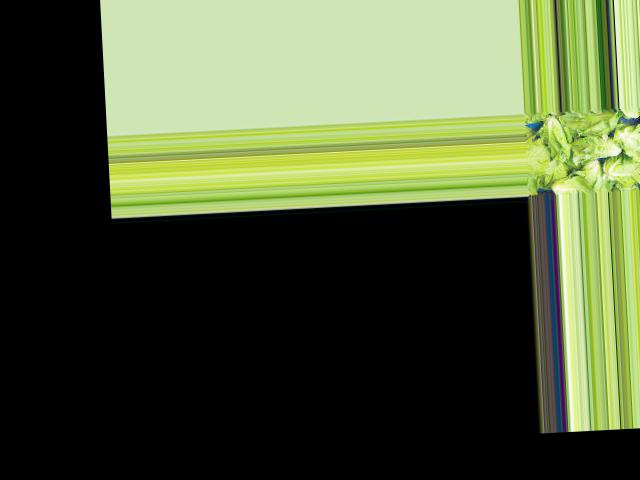lettuce: (544, 173, 594, 194)
